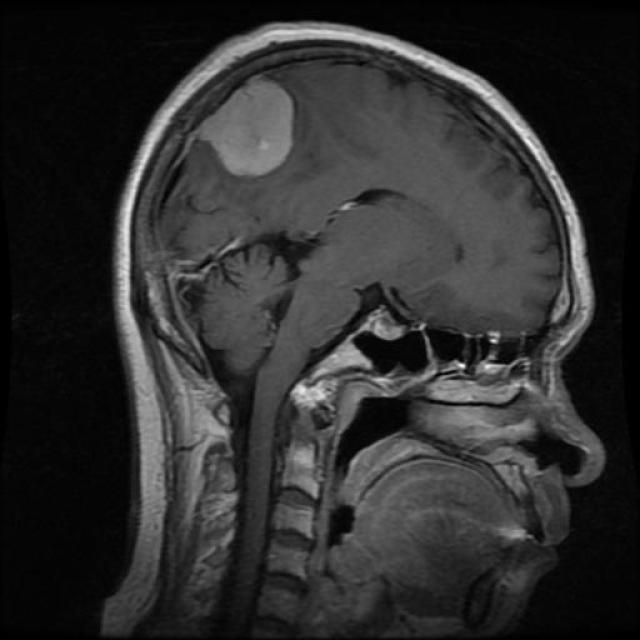meningioma: (196, 80, 296, 179)
